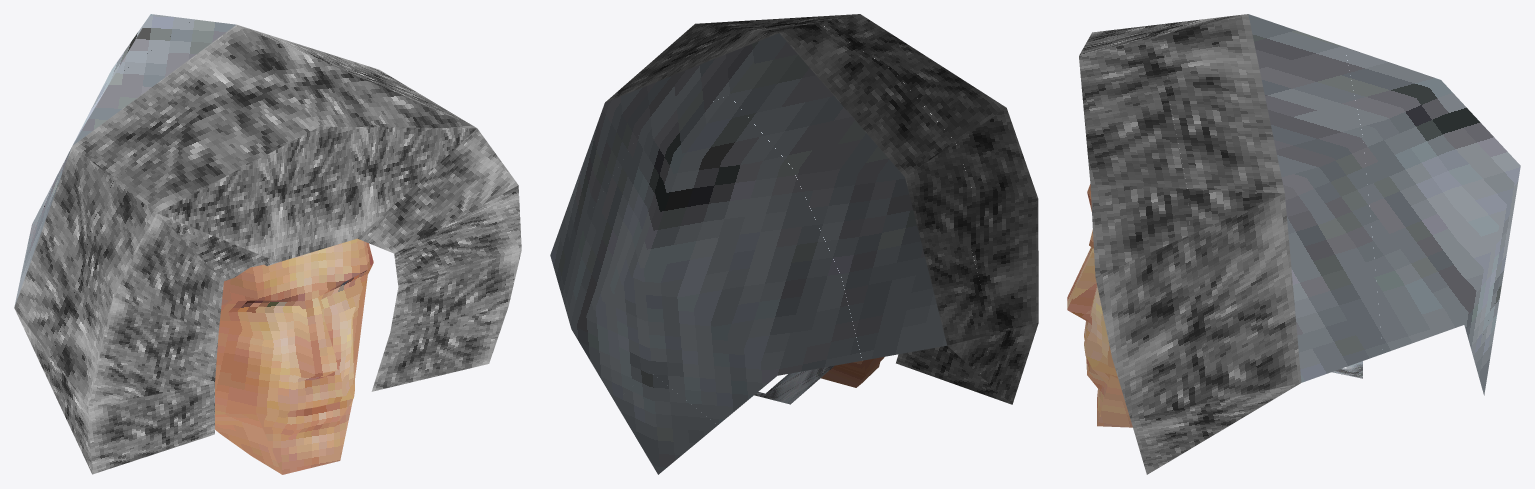
File: CheadbrosnansnowZ.obj
3 views of the same model, side by side, from view 1: azimuth 30°, elevation 25°; view 2: azimuth 150°, elevation 25°; view 3: azimuth 270°, elevation 25° (orthographic). The views are drawn at different scales.
Size of the model in its own units: 302 by 264 by 273.
Materials: 9 (9 with a texture image).
